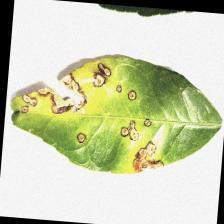canker: (15, 62, 165, 174)
